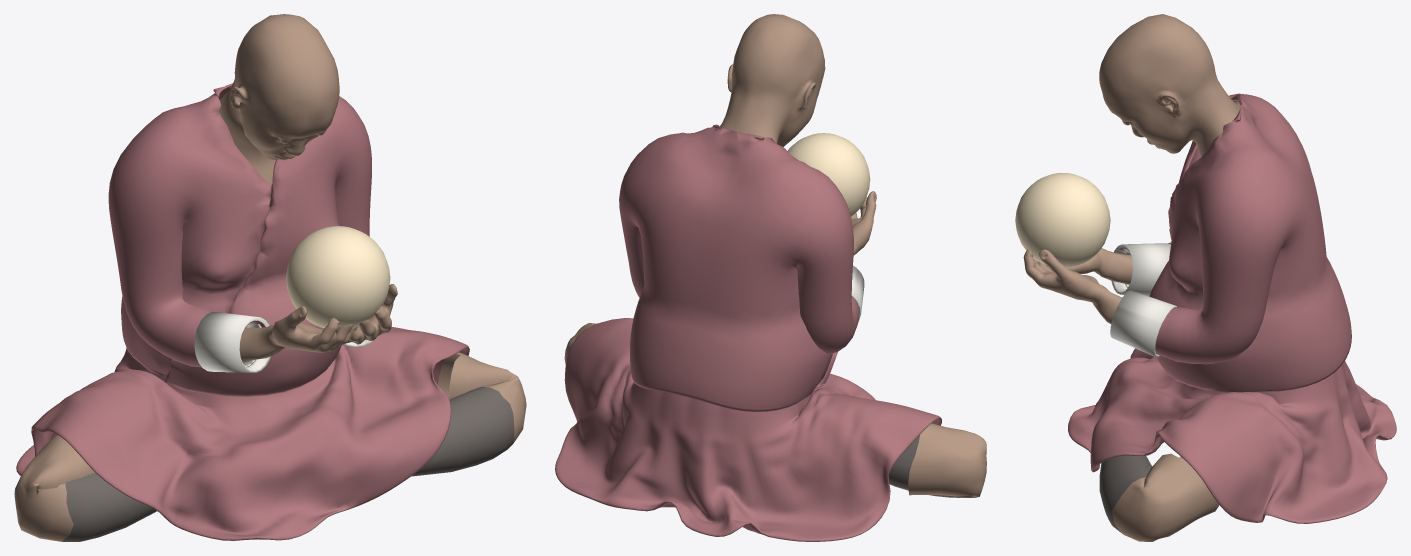
Rendered from figure.glb.
3 views of the same model, side by side, from view 1: azimuth 30°, elevation 25°; view 2: azimuth 150°, elevation 25°; view 3: azimuth 270°, elevation 25° (orthographic). The views are drawn at different scales.
Parts seen in each view (by area): view 1: figure; view 2: figure; view 3: figure.
Boxes of the visible parts, <box> form: figure: <box>14,14,526,541</box>; figure: <box>555,14,986,541</box>; figure: <box>1015,14,1396,541</box>.
Size of the model in its own units: 0.883 by 0.8375 by 0.6595.
